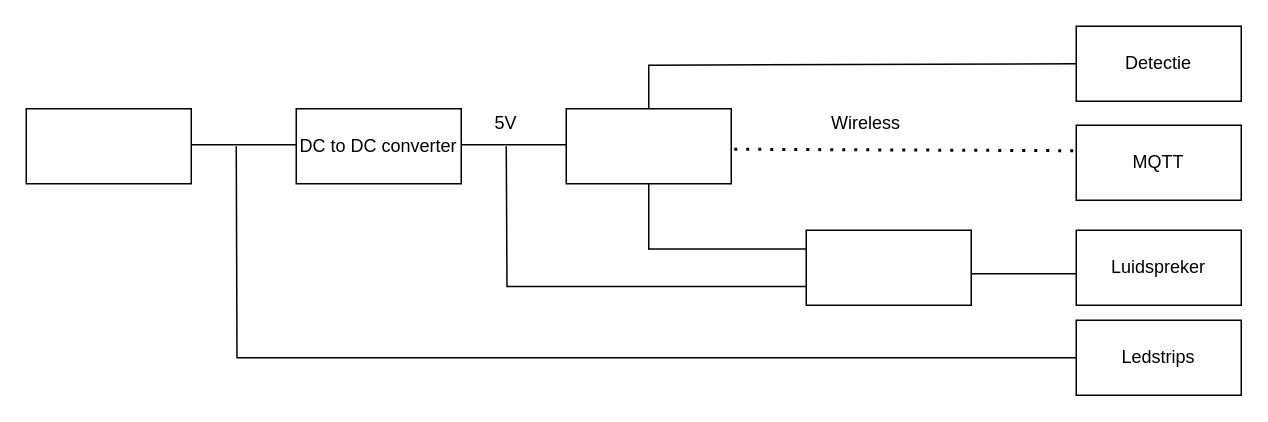
Image size: 1268x422. Some labels were removed from this diagram. Each missing label, with the centre of its shape:
ESP-32: [648,145]
Media Player: [888,267]
Voeding 24VDC 2.5A: [108,145]
